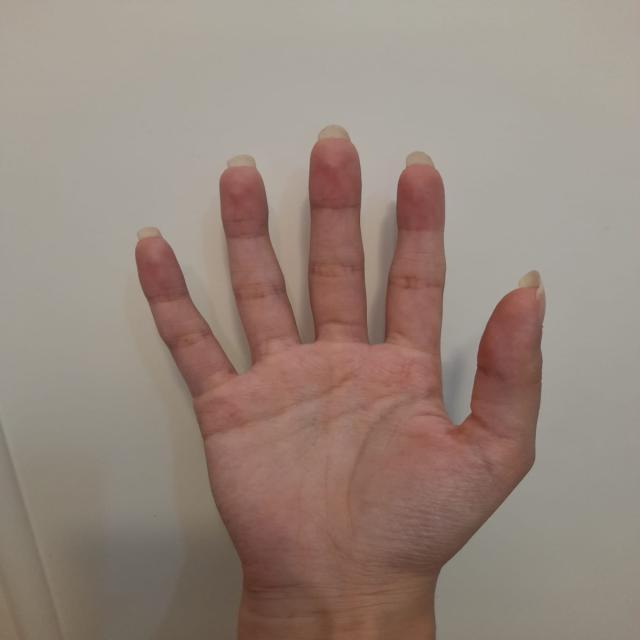Open Hand: (132, 138, 542, 569)
